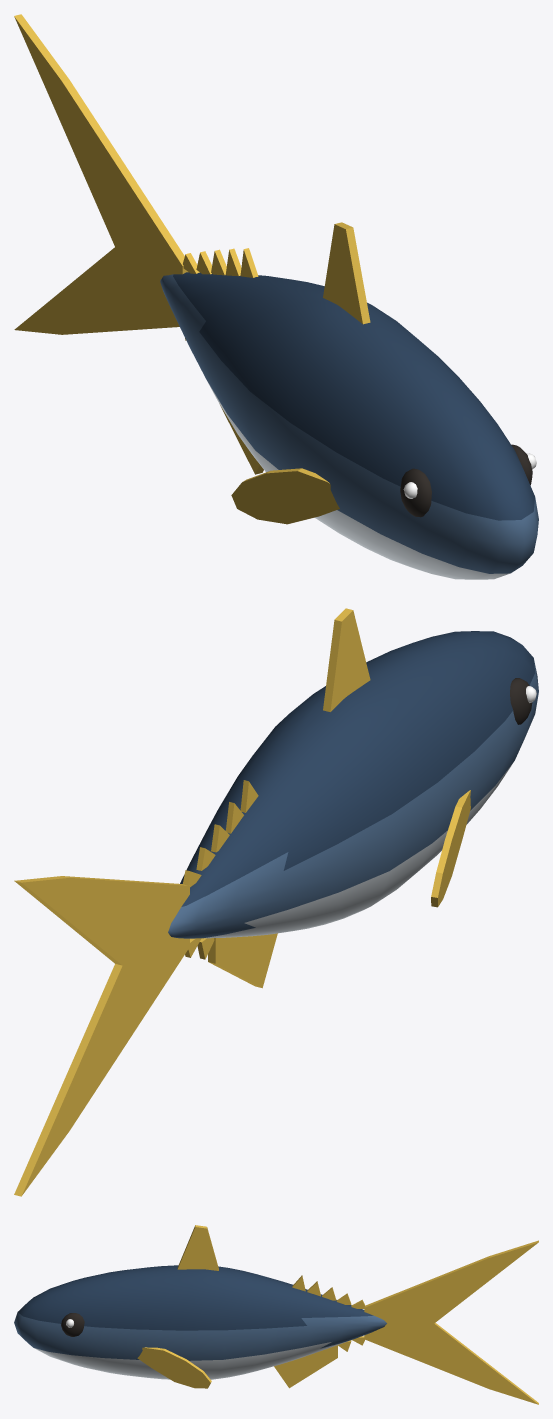
File: fish-tuna.glb
3 views of the same model, one above another, from view 1: azimuth 30°, elevation 25°; view 2: azimuth 150°, elevation 25°; view 3: azimuth 270°, elevation 25° (orthographic). The views are drawn at different scales.
Parts seen in each view (by area): view 1: fish; view 2: fish; view 3: fish.
Boxes of the visible parts, <box> form: fish: <box>14,14,538,579</box>; fish: <box>14,608,538,1196</box>; fish: <box>14,1225,538,1404</box>.
Bounding box in the file's own units: 0.1649 × 0.2622 × 0.7011.
